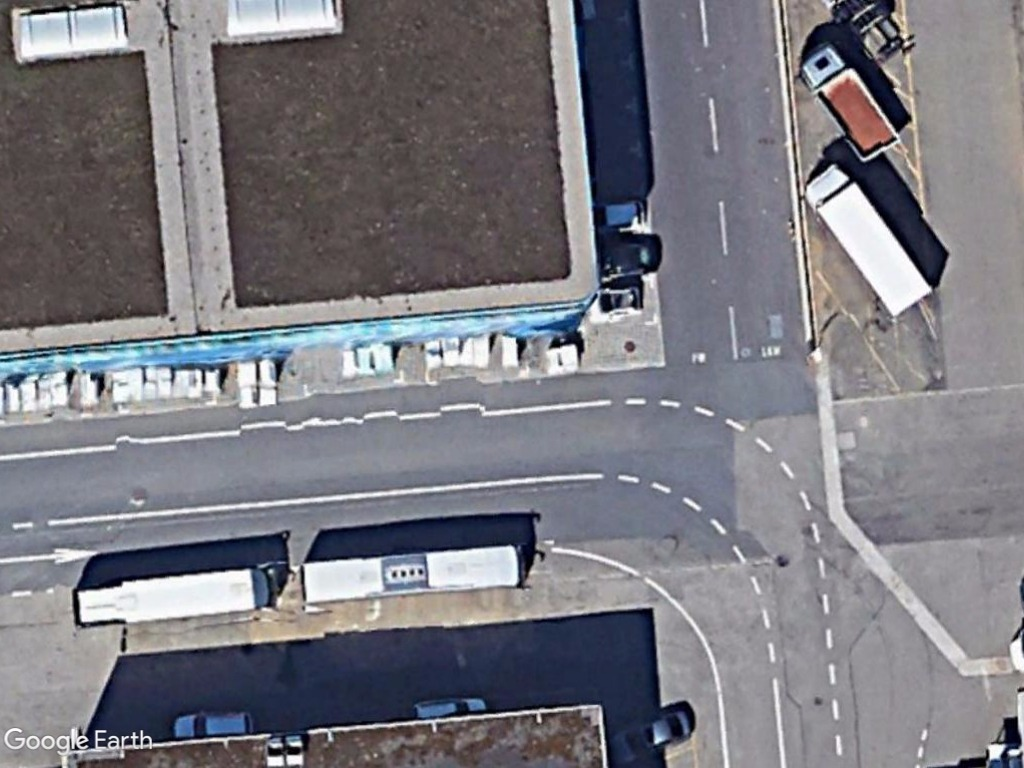bus: (293, 540, 534, 614), (70, 562, 272, 637)
others: (796, 40, 903, 166)
truck: (801, 162, 933, 321)
